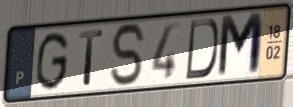4: (149, 21, 179, 83)
D: (183, 17, 220, 82)
G: (33, 30, 71, 94)
M: (215, 10, 266, 81)
S: (109, 21, 149, 90)
T: (77, 28, 105, 88)
